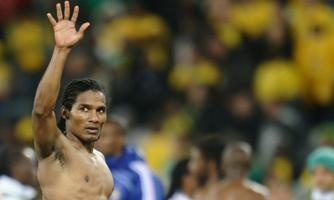person without safety: (53, 74, 135, 200), (181, 135, 223, 183), (221, 141, 262, 181)
